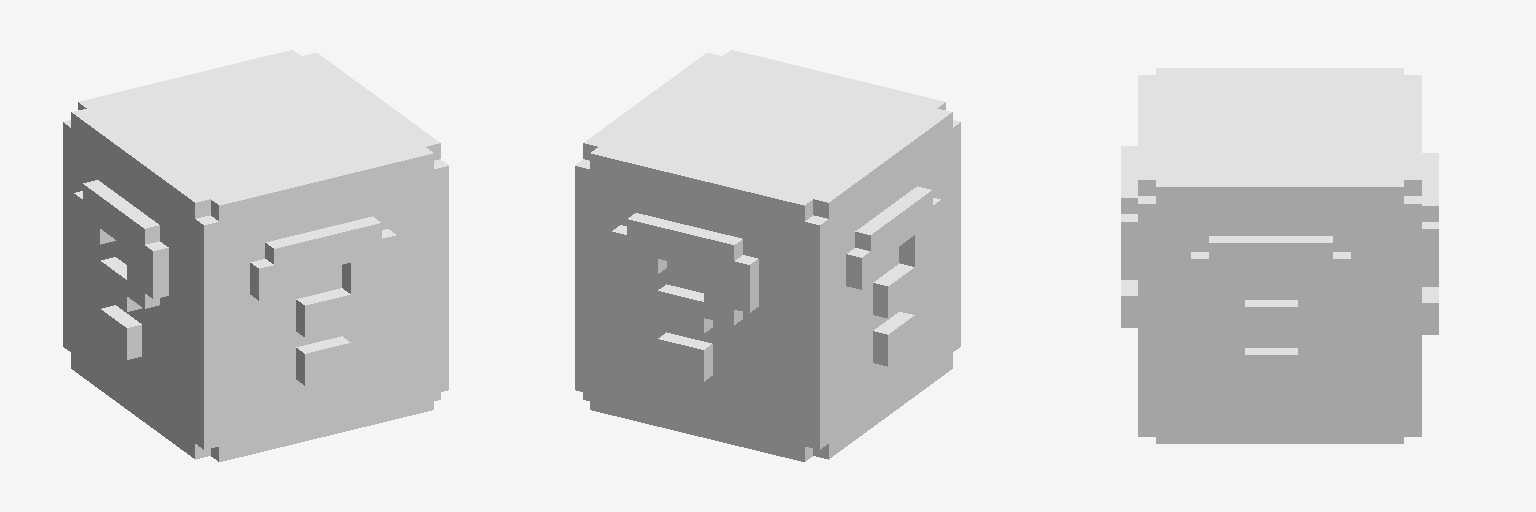
Rendered from Luckyblock.obj.
3 views of the same model, side by side, from view 1: azimuth 30°, elevation 25°; view 2: azimuth 150°, elevation 25°; view 3: azimuth 270°, elevation 25° (orthographic).
Visible parts, largest first — view 1: object 1; view 2: object 1; view 3: object 1.
Boxes of the visible parts, x1=… form: object 1: x1=63, y1=50, x2=448, y2=461; object 1: x1=575, y1=50, x2=960, y2=461; object 1: x1=1121, y1=68, x2=1438, y2=443.
Size of the model in its own units: 1.8 by 1.6 by 1.8.